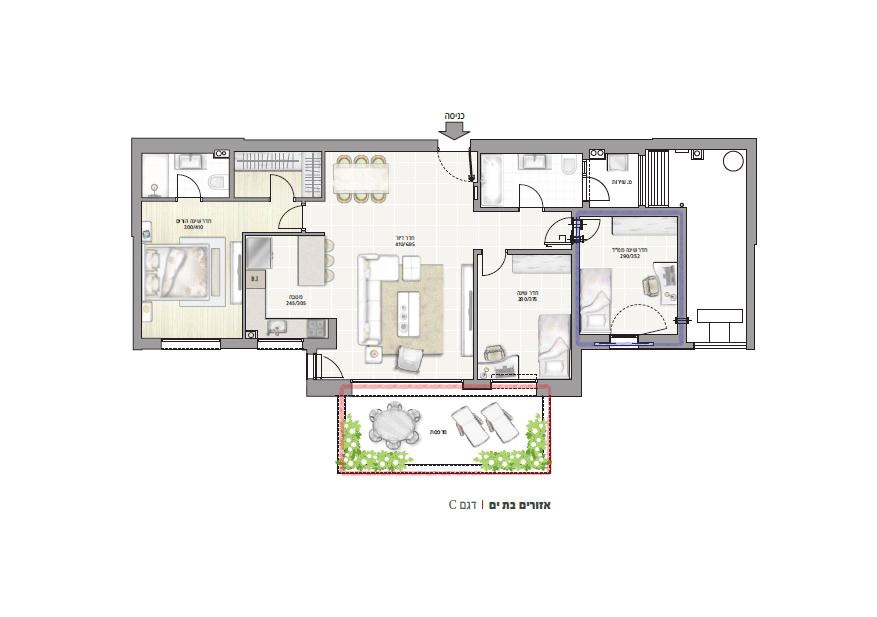balcony: (342, 386, 546, 472)
no: (248, 147, 424, 343), (132, 137, 246, 354), (470, 139, 752, 207), (474, 251, 576, 377)
securityroom: (578, 212, 681, 346)
